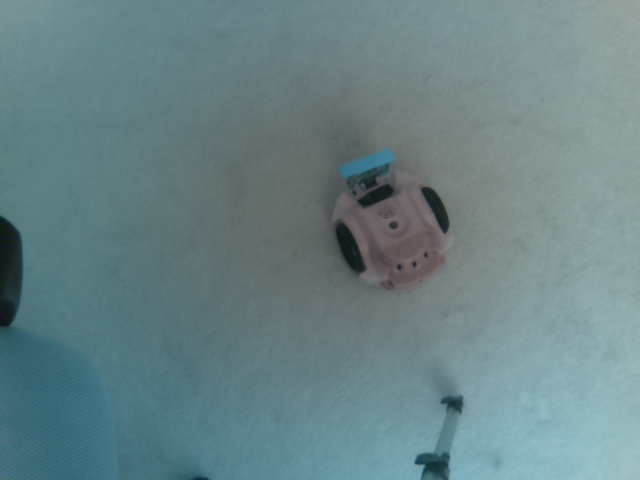board: (335, 146, 398, 190)
chassis: (325, 147, 463, 296)
